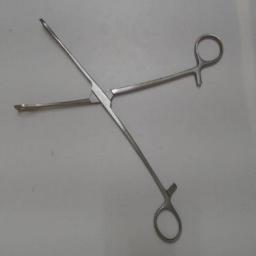Sponge Forceps: (9, 6, 227, 246)
